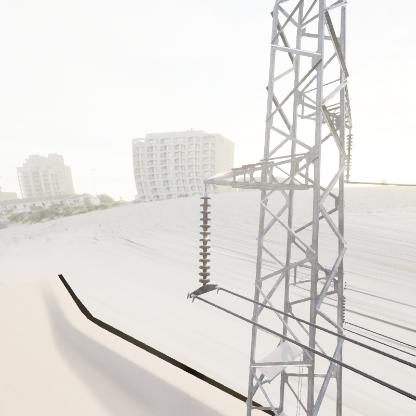insulator: (195, 192, 215, 292)
